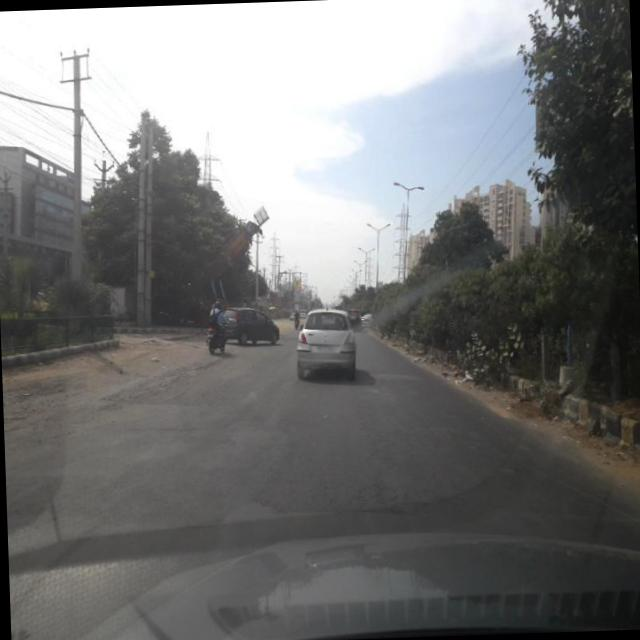crack: (223, 385, 454, 528)
